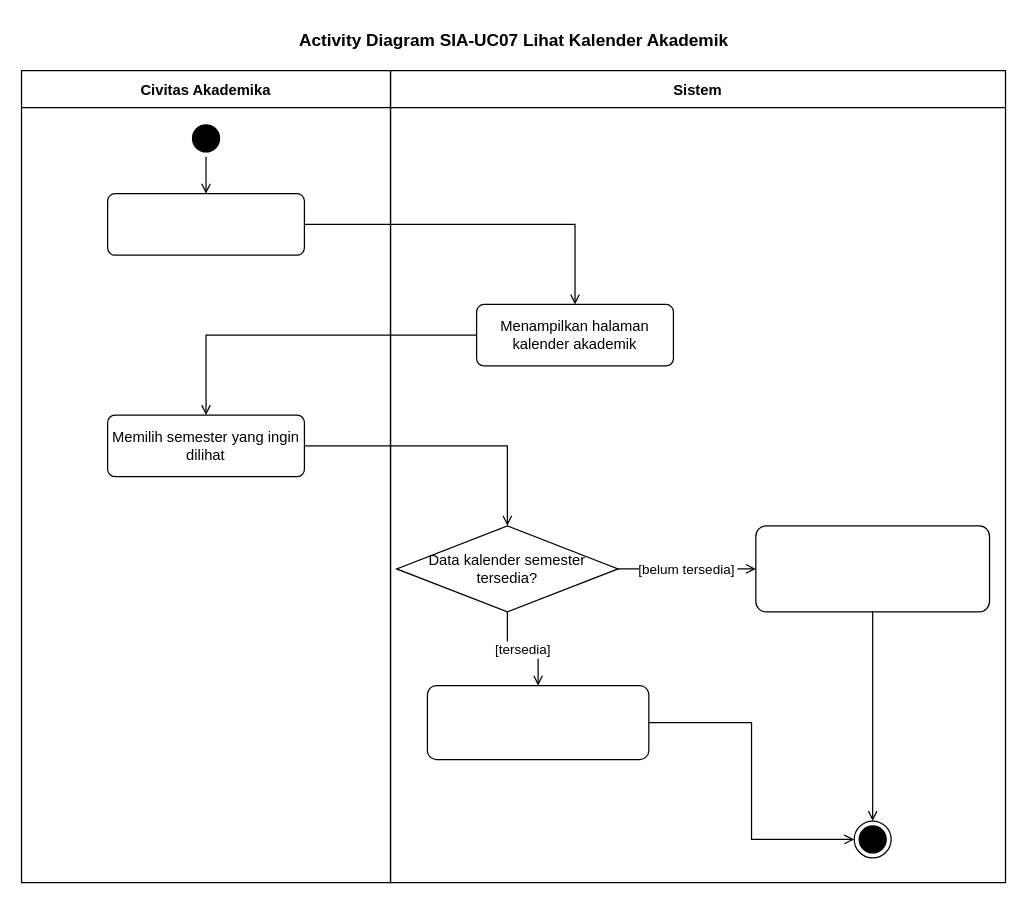
This 1027x904 diagram has some shape labels left out. Here are the shapes that lost their labels. From the top down, the centre of each, then its label:
At (205,223): "Membuka menu Lihat Kalender Akademik".
At (872,568): "Menampilkan pesan bahwa kalender akademik untuk semester tersebut belum tersedia".
At (537,722): "Menampilkan kalender akademik sesuai semester yang dipilih".
